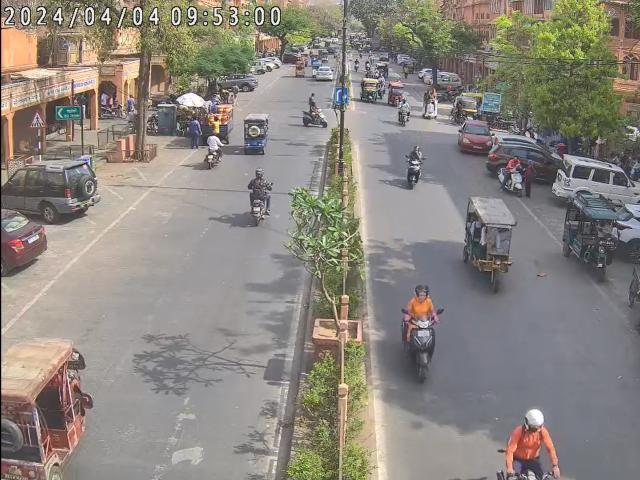auto: (7, 332, 98, 477), (564, 188, 632, 274), (459, 196, 516, 294), (490, 138, 558, 185), (244, 112, 272, 154), (361, 79, 382, 103), (388, 80, 406, 106)
car: (0, 154, 99, 223), (557, 152, 631, 204), (5, 212, 50, 274), (422, 70, 464, 92), (312, 65, 338, 84)
helmet: (522, 409, 548, 433), (414, 284, 432, 298), (254, 168, 265, 178), (410, 146, 420, 156)
motorbike-rider: (499, 407, 564, 480), (245, 167, 274, 222), (204, 133, 224, 170), (306, 91, 320, 116), (398, 102, 412, 126)
scooty-rider: (402, 283, 446, 384), (498, 162, 528, 196), (404, 145, 425, 188), (302, 110, 328, 128)
